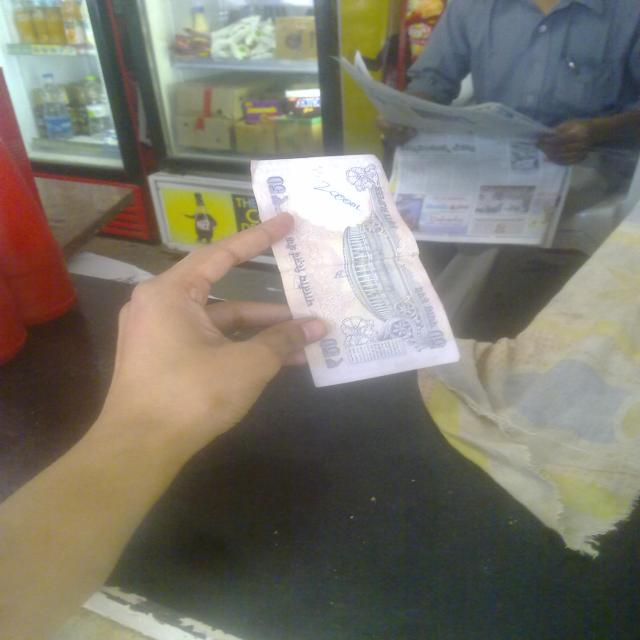50rs: (247, 154, 483, 394)
